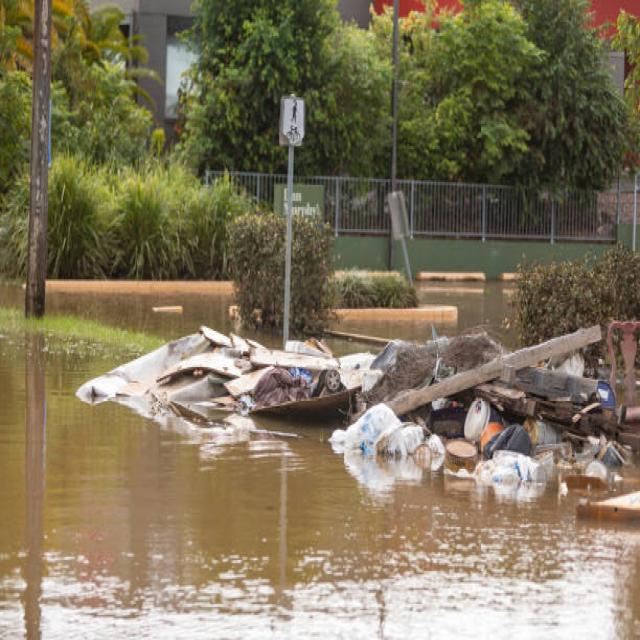metal: (520, 414, 568, 460), (442, 428, 472, 476)
plastic: (329, 402, 410, 486), (475, 452, 592, 489), (466, 398, 523, 441)
